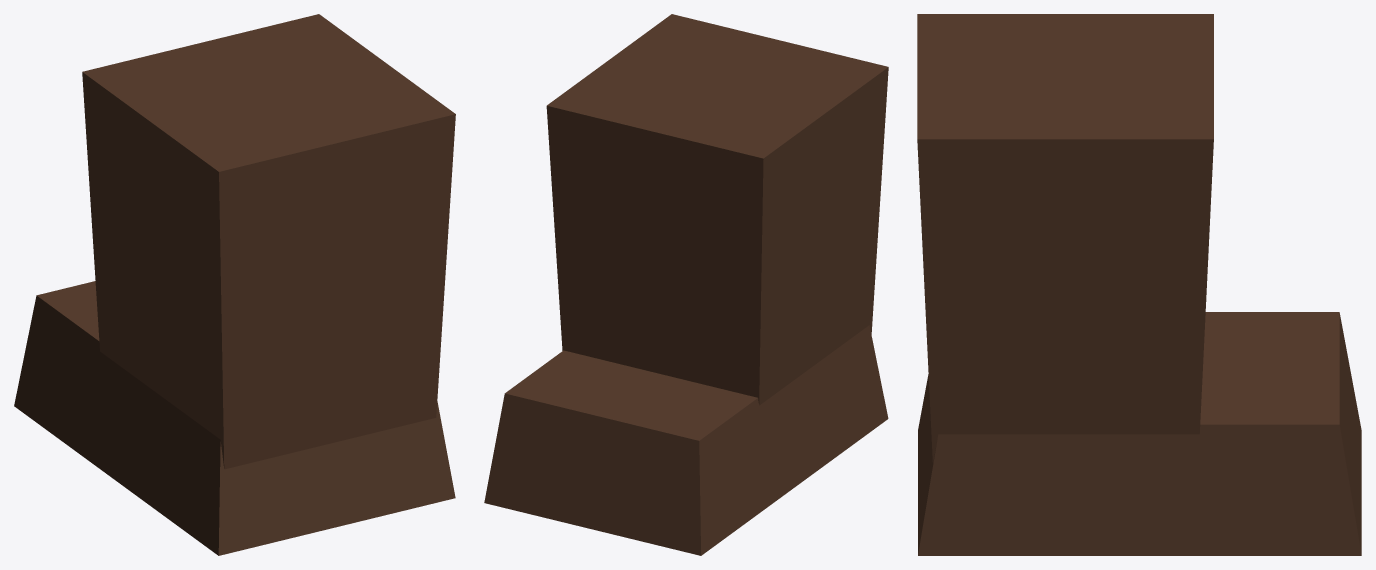
Rendered from animal_mink_leg.obj.
3 views of the same model, side by side, from view 1: azimuth 30°, elevation 25°; view 2: azimuth 150°, elevation 25°; view 3: azimuth 270°, elevation 25° (orthographic). The views are drawn at different scales.
Parts seen in each view (by area): view 1: animal_mink_leg; view 2: animal_mink_leg; view 3: animal_mink_leg.
Boxes of the visible parts, x1,y1,x2,y2 form: animal_mink_leg: [14, 14, 455, 555]; animal_mink_leg: [484, 14, 888, 555]; animal_mink_leg: [917, 14, 1361, 555].
Size of the model in its own units: 0.0484 by 0.075 by 0.0725.
